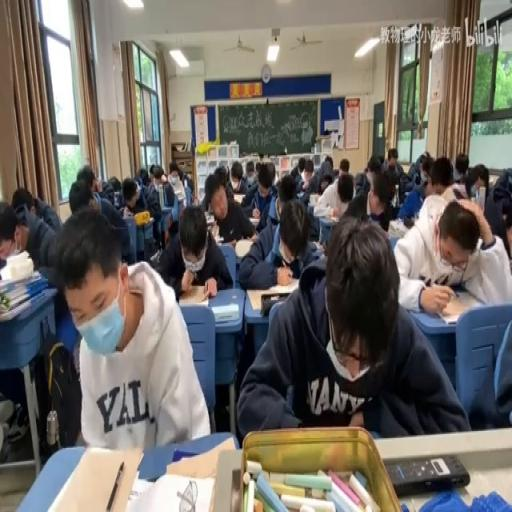calculator: (38, 442, 142, 509), (126, 469, 215, 512), (163, 435, 234, 479), (428, 286, 482, 323), (246, 283, 298, 310), (178, 283, 210, 304), (210, 302, 238, 322), (234, 238, 252, 258), (388, 218, 406, 236), (208, 222, 219, 240), (232, 192, 246, 205), (310, 239, 324, 252), (222, 238, 238, 248), (157, 182, 163, 208), (122, 208, 134, 219), (204, 212, 214, 225), (487, 175, 498, 186), (247, 214, 259, 224), (309, 193, 318, 205), (296, 189, 306, 199), (248, 233, 258, 243), (214, 236, 222, 243)
paper: (236, 218, 462, 440), (58, 208, 211, 450), (1, 192, 61, 451), (70, 174, 132, 264), (467, 306, 512, 428), (200, 171, 254, 246), (323, 188, 373, 250), (124, 174, 162, 253), (482, 166, 510, 254), (298, 174, 330, 240), (450, 196, 482, 240), (427, 155, 456, 198), (382, 148, 405, 196), (404, 149, 429, 188), (0, 208, 19, 258), (166, 161, 190, 199), (466, 162, 488, 202), (354, 156, 374, 194), (11, 189, 34, 218), (336, 172, 354, 205), (76, 165, 96, 193), (278, 174, 296, 204), (453, 150, 469, 180), (106, 173, 122, 202), (213, 165, 229, 183), (136, 166, 150, 185), (245, 160, 255, 184), (270, 162, 278, 186), (296, 155, 306, 174), (338, 158, 350, 173), (231, 170, 242, 186), (322, 154, 332, 170), (321, 176, 331, 190), (254, 161, 262, 176), (149, 168, 157, 182), (377, 155, 384, 168)
person: (384, 452, 470, 494), (404, 213, 414, 226)
